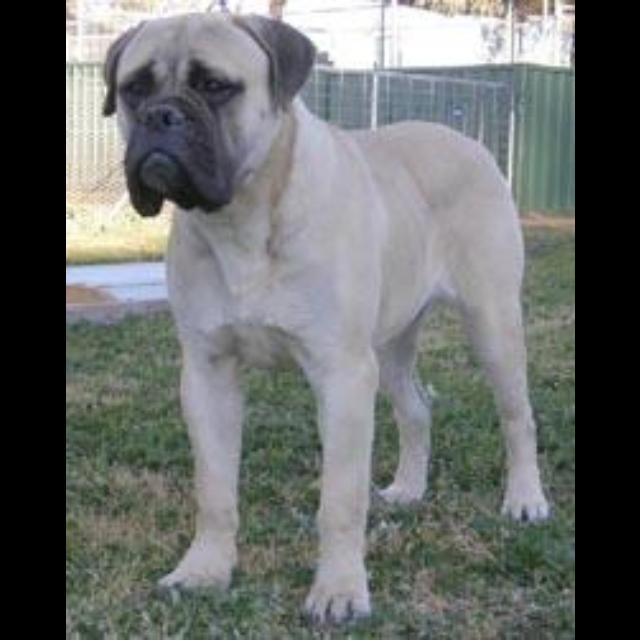bullmastiff: (100, 9, 551, 628)
